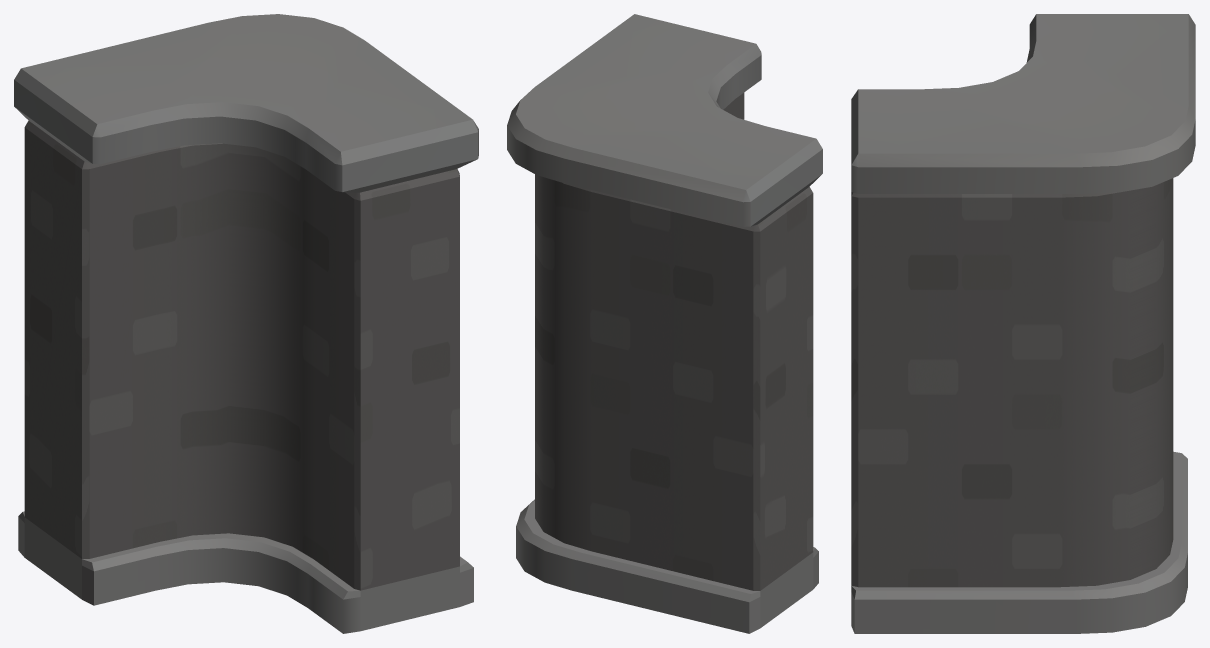
File: HighWall_2_2.glb
3 views of the same model, side by side, from view 1: azimuth 30°, elevation 25°; view 2: azimuth 150°, elevation 25°; view 3: azimuth 270°, elevation 25° (orthographic). The views are drawn at different scales.
Parts seen in each view (by area): view 1: HighWall_2_2; view 2: HighWall_2_2; view 3: HighWall_2_2.
Boxes of the visible parts, bbox=[...] form: HighWall_2_2: bbox=[14, 14, 478, 633]; HighWall_2_2: bbox=[507, 14, 822, 633]; HighWall_2_2: bbox=[851, 14, 1195, 633].
Size of the model in its own units: 1.32 by 2.03 by 1.32.
Materials: 2 (2 with a texture image).
